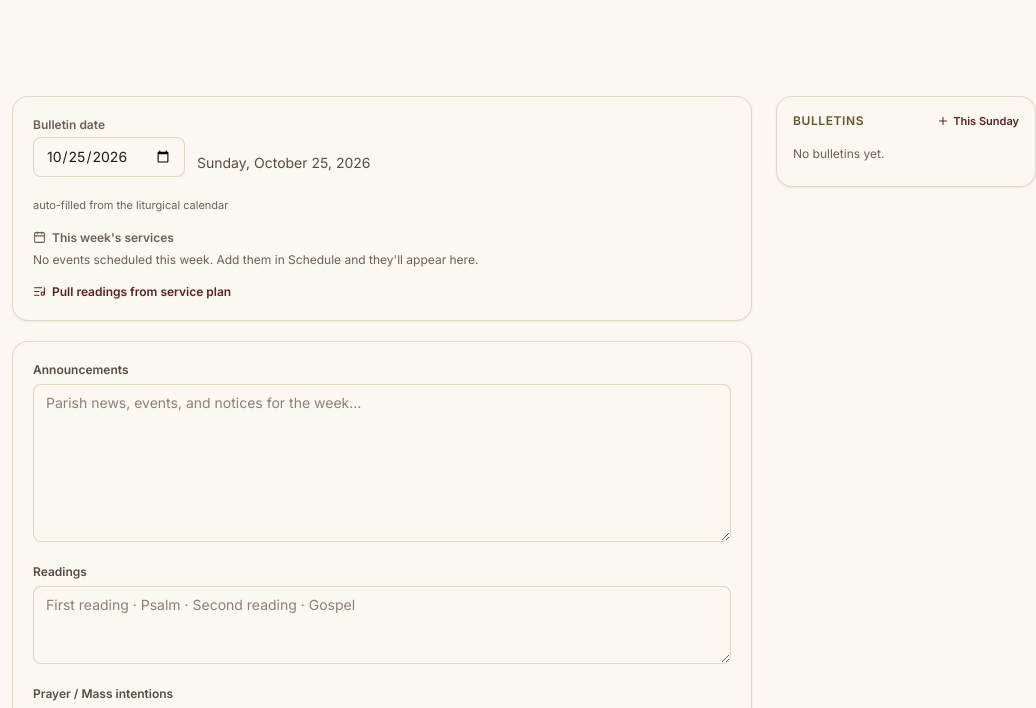
Test: a refused pull is not an empty date › a 500 on the plan list does not claim this date has no plan
In the date field labelled "Bulletin date": {"x": 109, "y": 157} [33, 137, 185, 177], type "2026-10-04"
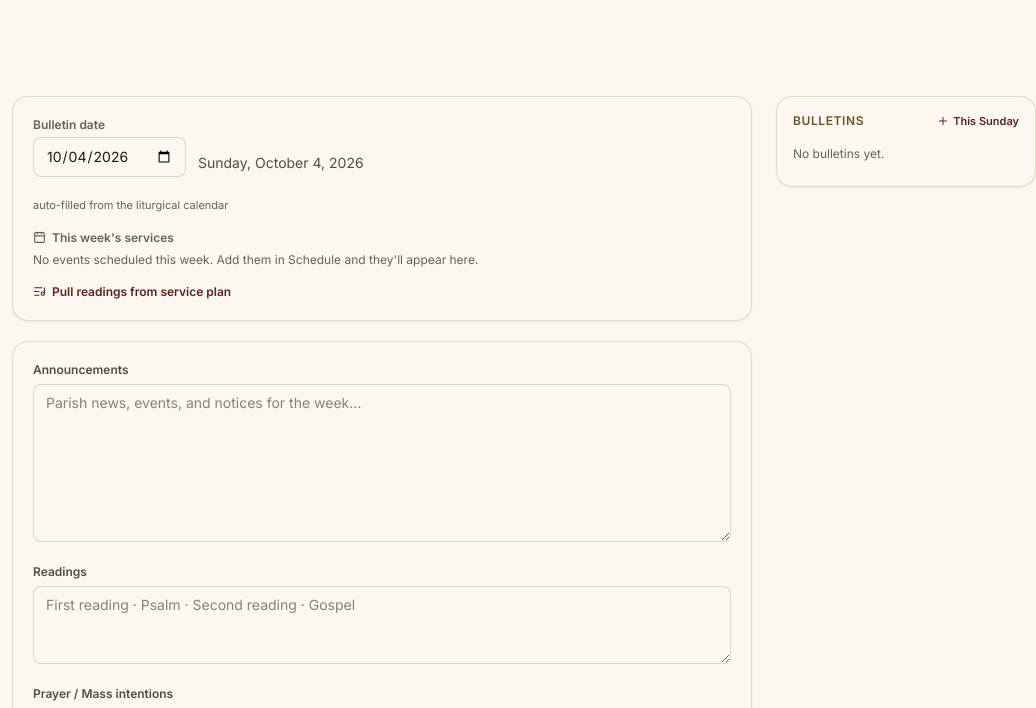
Click the button "Pull readings from service plan": {"x": 132, "y": 292} [33, 284, 231, 300]
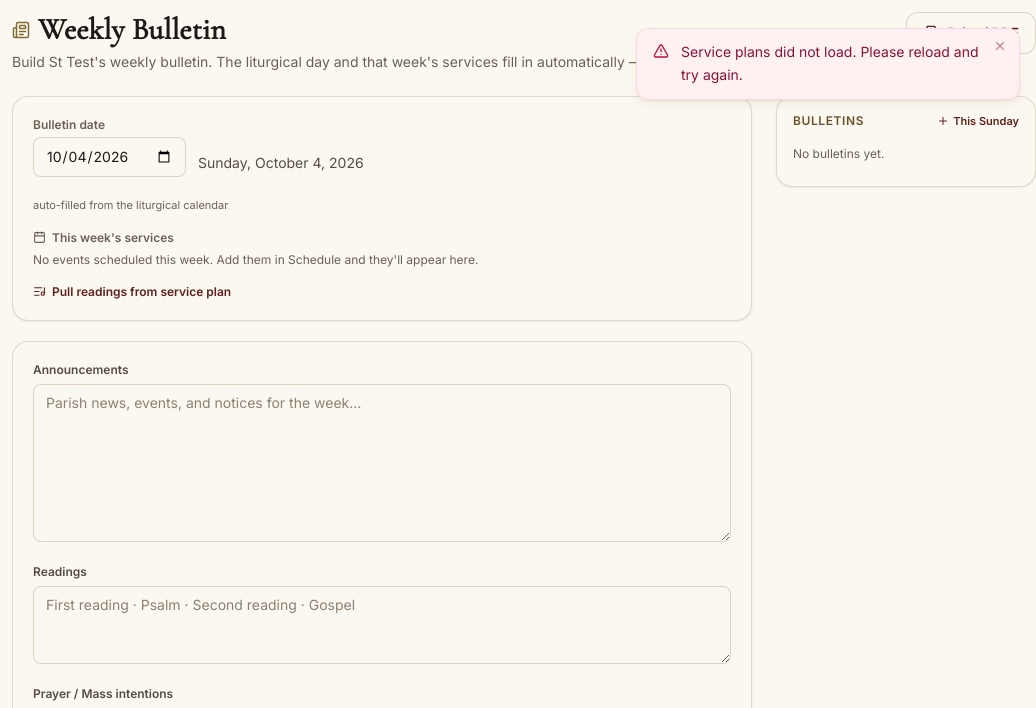
Now the message shows "Service plans did not load", box [681, 43, 979, 83]
